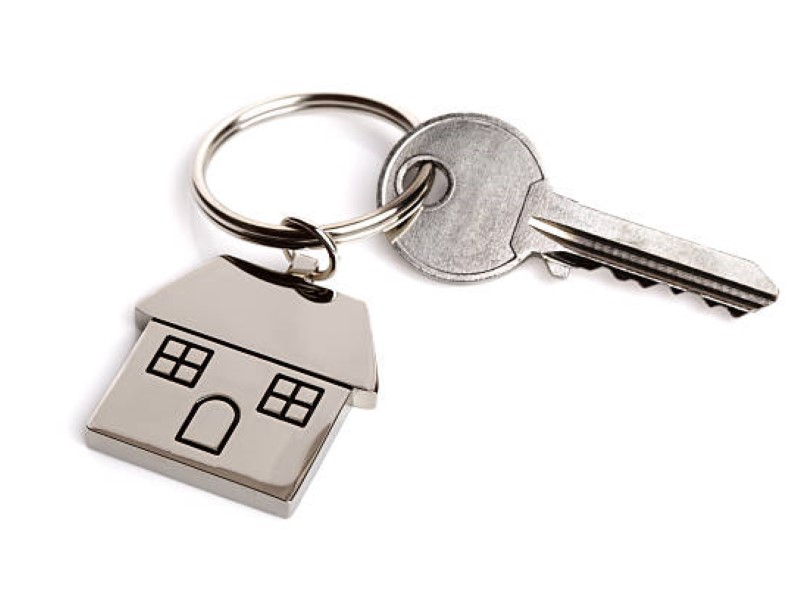key: (378, 105, 785, 331)
